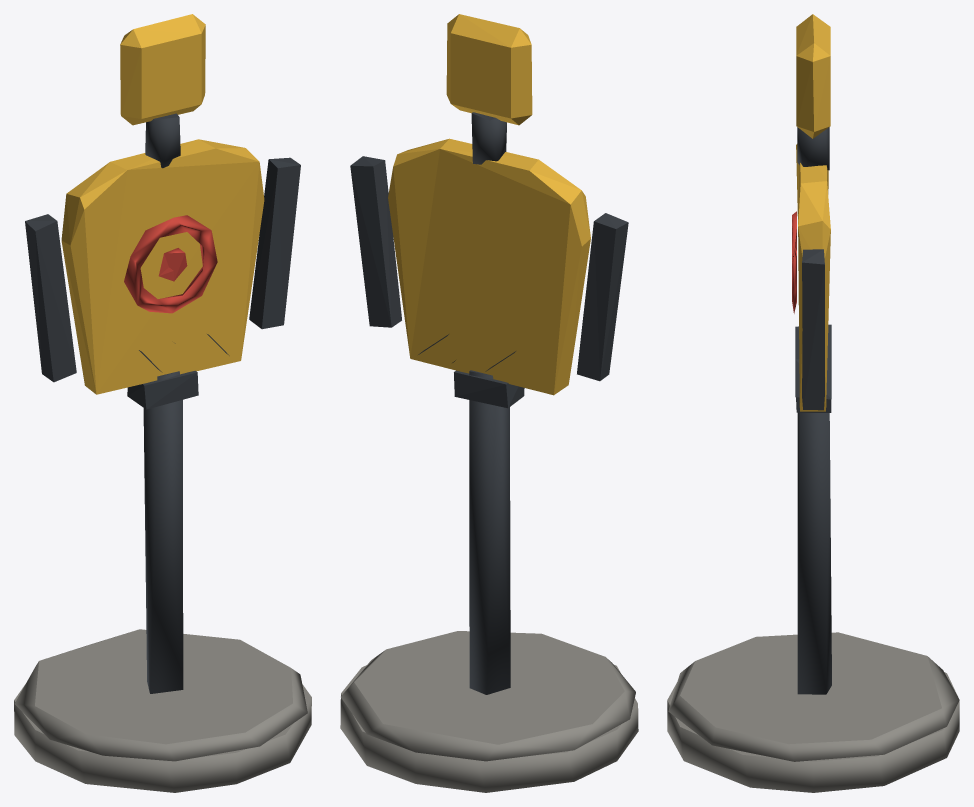
Rendered from target_dummy_lod1.obj.
The picture shows the model from 3 angles, left to right: view 1: azimuth 30°, elevation 25°; view 2: azimuth 150°, elevation 25°; view 3: azimuth 270°, elevation 25°; orthographic projection.
Parts seen in each view (by area): view 1: target_dummy_lod1; view 2: target_dummy_lod1; view 3: target_dummy_lod1.
Part boxes in pixels (x1,y1,x2,y2): target_dummy_lod1: (14,14,311,792); target_dummy_lod1: (340,14,638,792); target_dummy_lod1: (667,14,959,792).
Bounding box in the file's own units: 0.7104 × 1.8 × 0.68.
